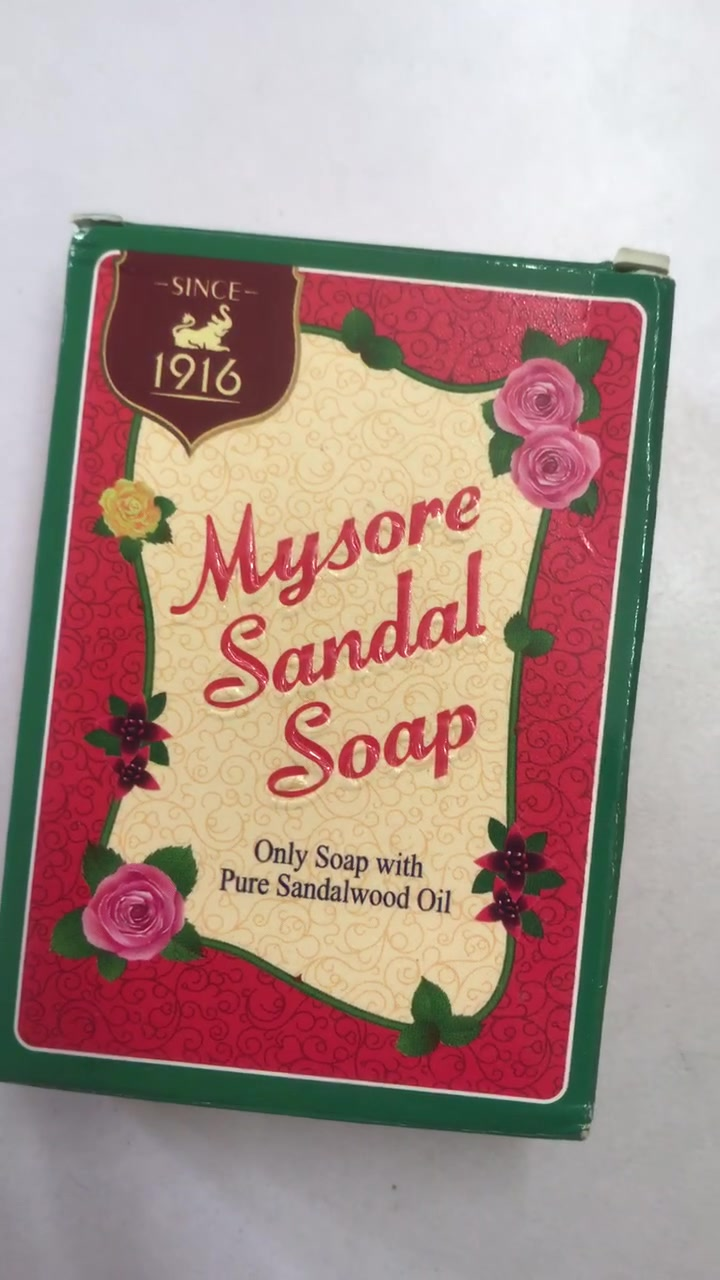mysore sandal soap: (2, 210, 683, 1142)
